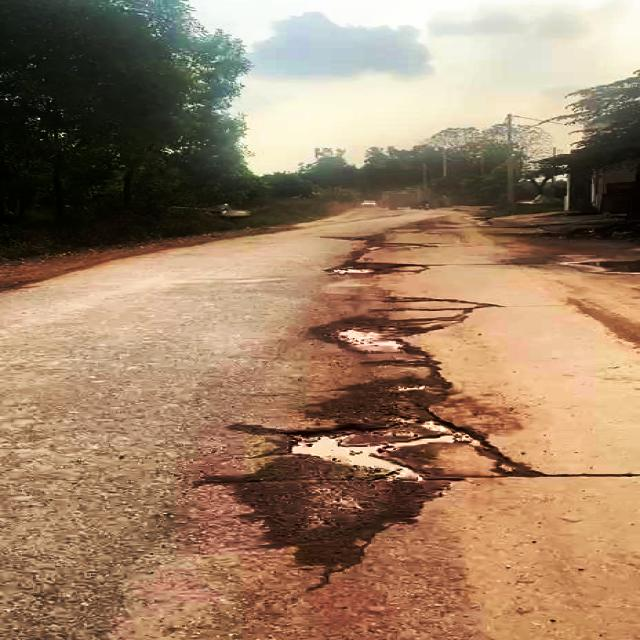pothole: (270, 406, 505, 488), (317, 313, 454, 359), (324, 262, 435, 278)
